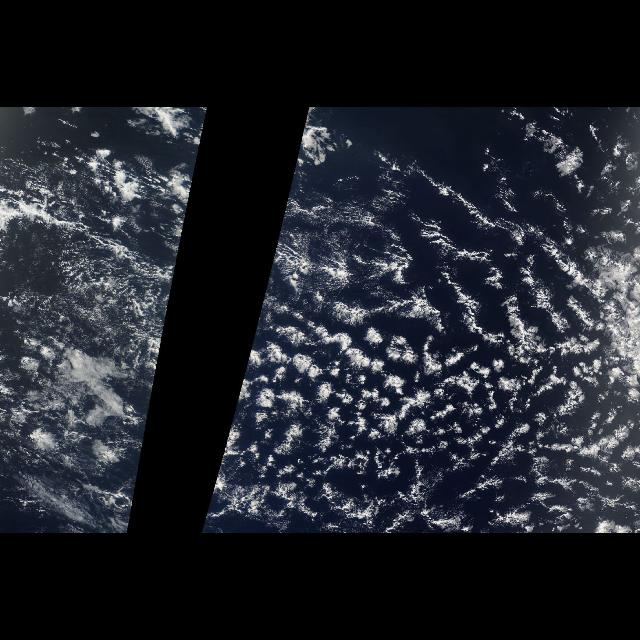Flower: (260, 286, 630, 520)
